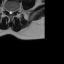CCS_stenosis: (9, 8, 11, 16)
LFS_stenosis: (13, 8, 15, 13)
LLS_normal: (11, 8, 13, 15)
RFS_stenosis: (6, 7, 8, 13)
RLS_normal: (8, 8, 9, 15)
